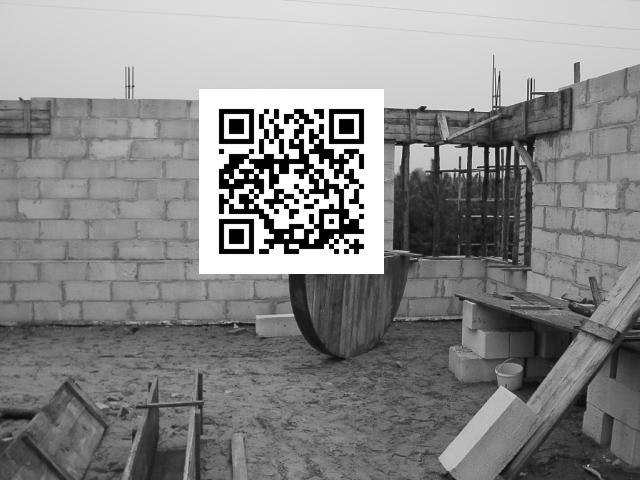qr_code: (200, 89, 384, 272)
